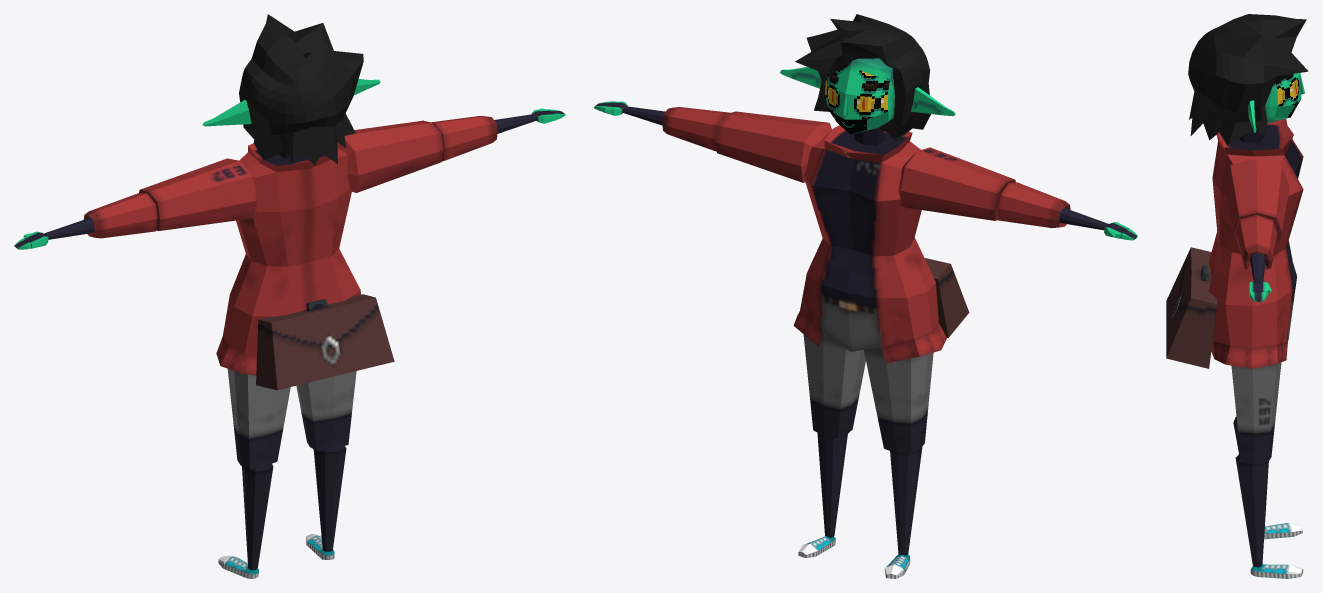
Rendered from Protag.obj.
The picture shows the model from 3 angles, left to right: view 1: azimuth 30°, elevation 25°; view 2: azimuth 150°, elevation 25°; view 3: azimuth 270°, elevation 25°; orthographic projection.
Visible parts, largest first — view 1: Body_Cube.005; view 2: Body_Cube.005, Eyes_Cube.001; view 3: Body_Cube.005, Eyes_Cube.001.
Part boxes in pixels (left/top/right/bottom): Body_Cube.005: left=14, top=14, right=565, bottom=578; Body_Cube.005: left=594, top=14, right=1137, bottom=578; Eyes_Cube.001: left=825, top=68, right=889, bottom=119; Body_Cube.005: left=1166, top=14, right=1308, bottom=578; Eyes_Cube.001: left=1275, top=73, right=1299, bottom=106.
Size of the model in its own units: 2.97 by 2.78 by 0.6689.
